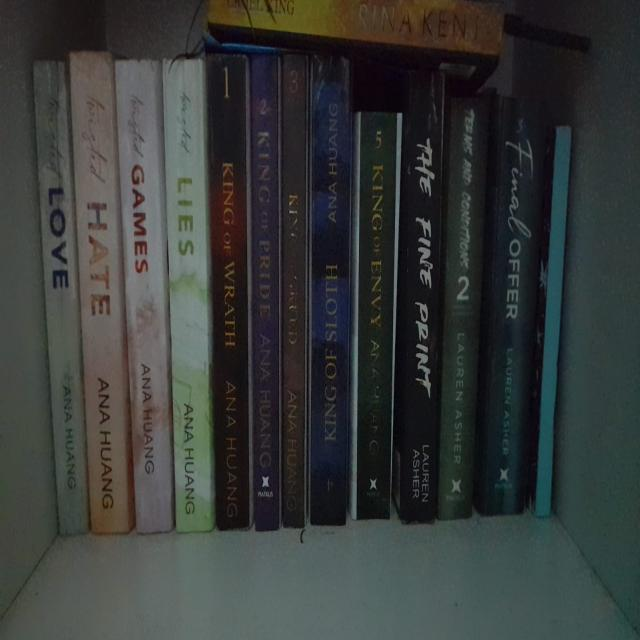book: (71, 54, 129, 532), (33, 60, 88, 535), (483, 95, 542, 518), (163, 56, 213, 526), (396, 75, 443, 526), (438, 93, 486, 525), (209, 49, 251, 542), (311, 53, 349, 529), (352, 110, 395, 526), (252, 50, 280, 530), (282, 52, 306, 530)
